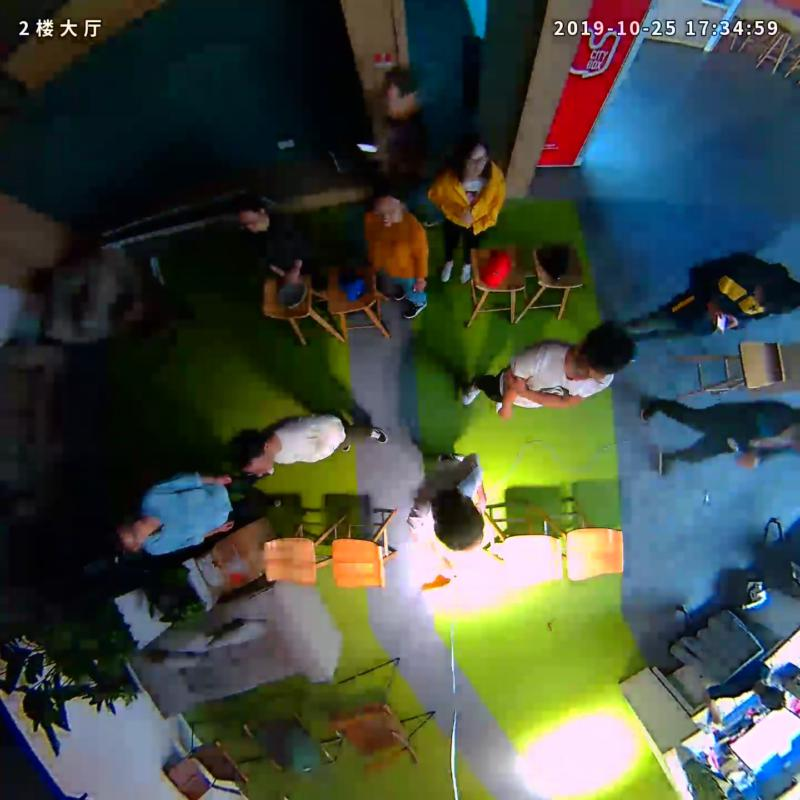head: (568, 324, 635, 382), (432, 494, 484, 553), (229, 430, 276, 476), (105, 512, 148, 557), (382, 68, 419, 120), (369, 181, 406, 228), (756, 276, 800, 315), (232, 195, 270, 235), (457, 136, 490, 181)
